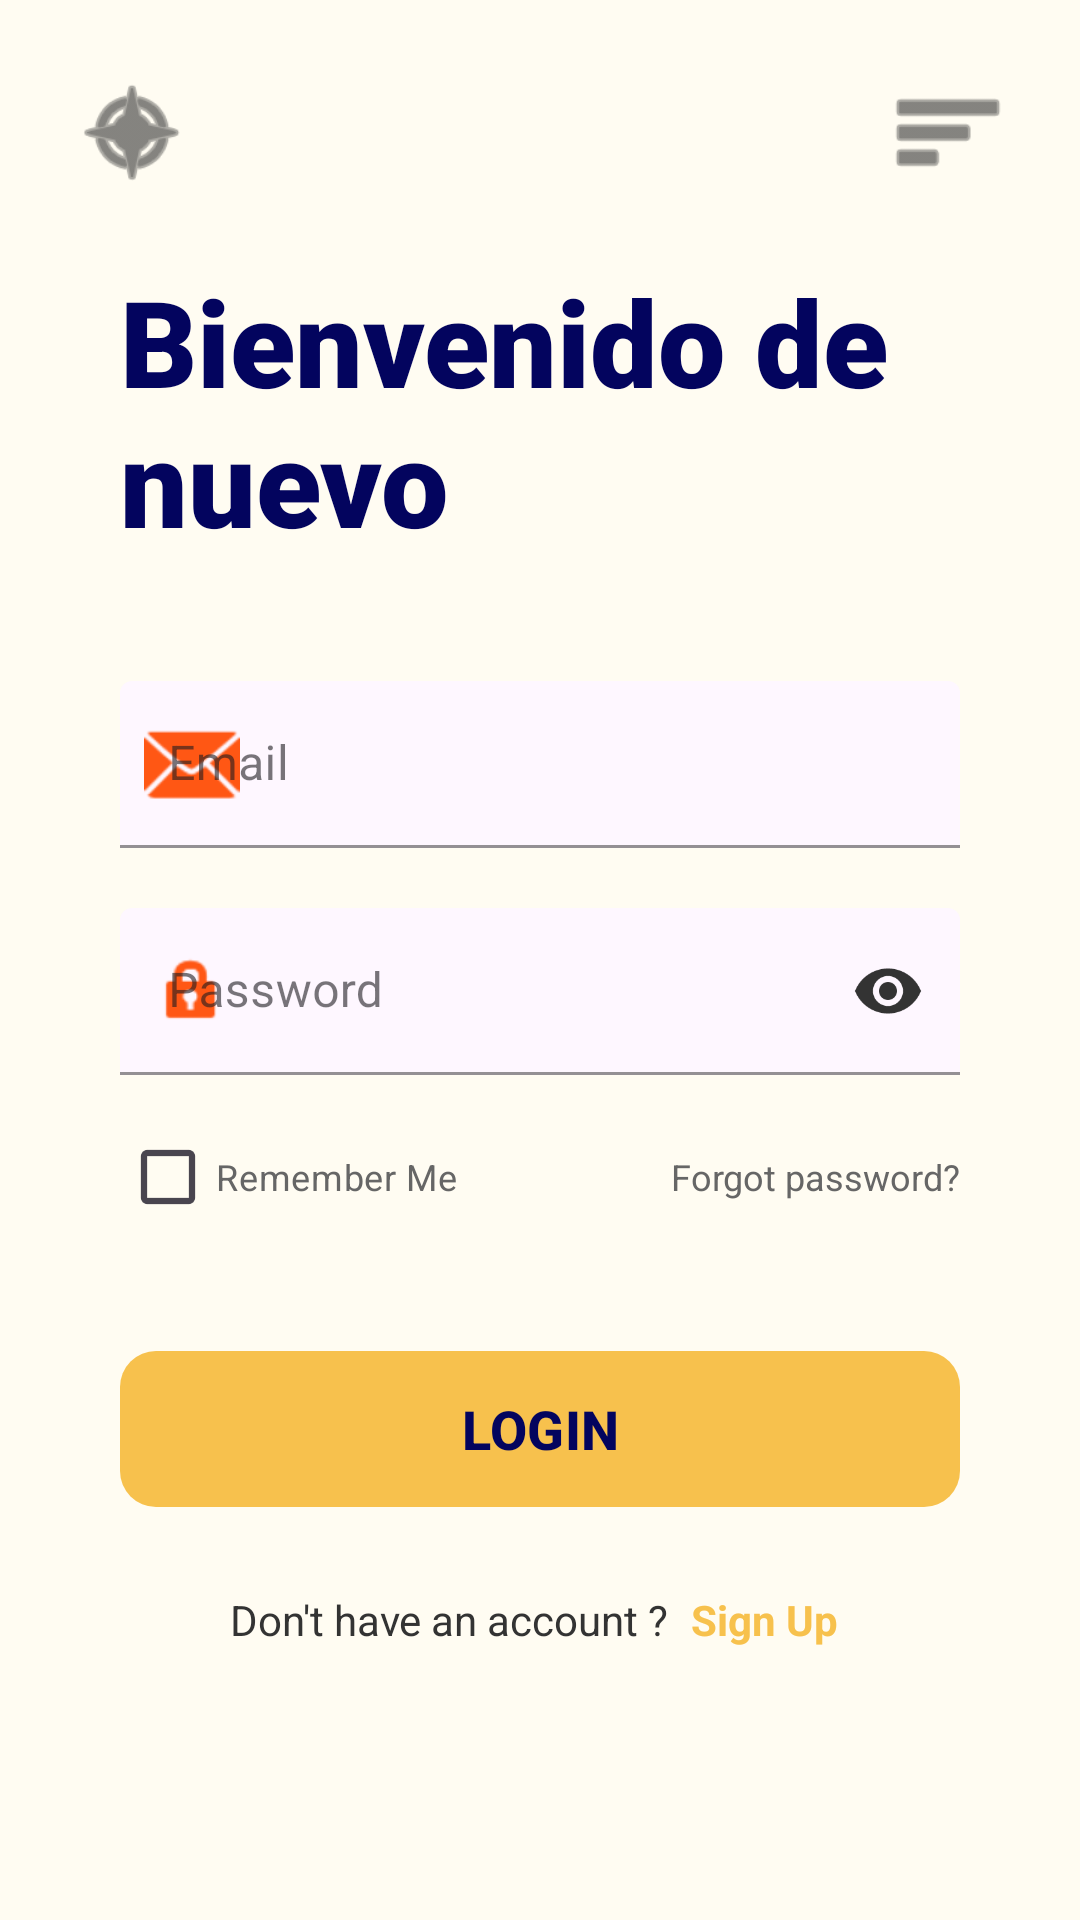

Where icons sit on this 1080px×1920px app screen, as (x1, y1, x2, y2):
compass: (84, 85, 179, 180)
sort by size: (896, 99, 1000, 166)
